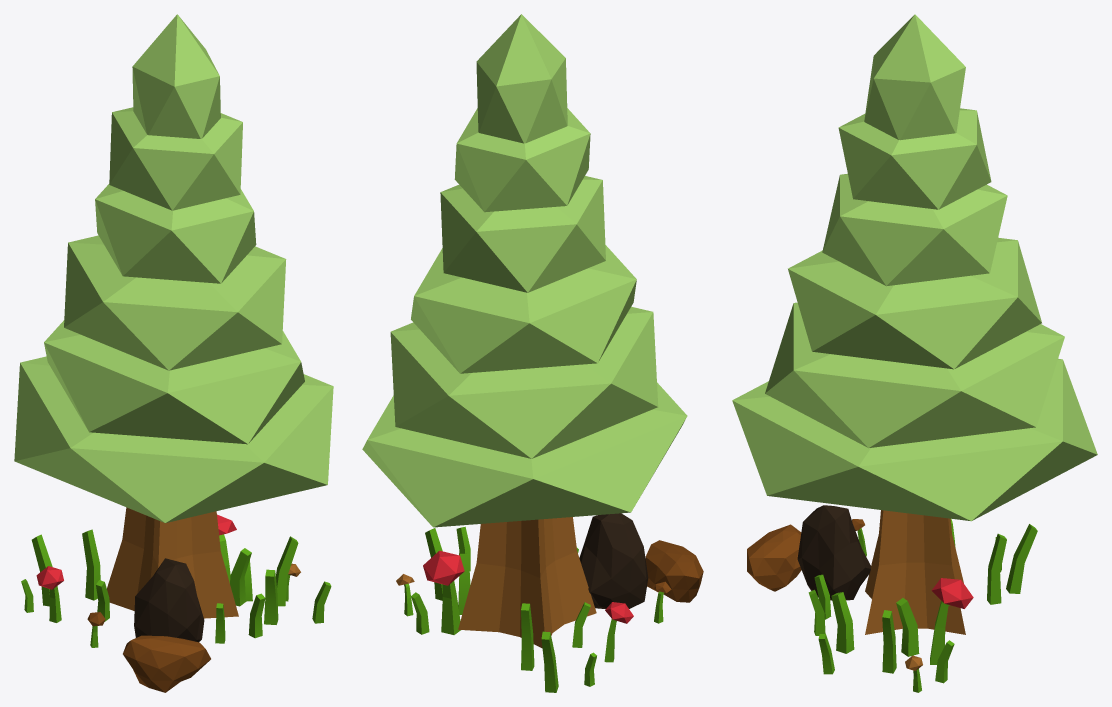
The model's file is Tree_Pine_01.fbx.
The picture shows the model from 3 angles, left to right: view 1: azimuth 30°, elevation 25°; view 2: azimuth 150°, elevation 25°; view 3: azimuth 270°, elevation 25°; orthographic projection. The views are drawn at different scales.
Visible parts, largest first — view 1: Tree_Pine_01; view 2: Tree_Pine_01; view 3: Tree_Pine_01.
Boxes of the visible parts, left/top/right/bottom form: Tree_Pine_01: left=14, top=14, right=333, bottom=692; Tree_Pine_01: left=362, top=14, right=703, bottom=692; Tree_Pine_01: left=732, top=14, right=1097, bottom=692.
Bounding box in the file's own units: 3.19 × 7.11 × 3.77.
